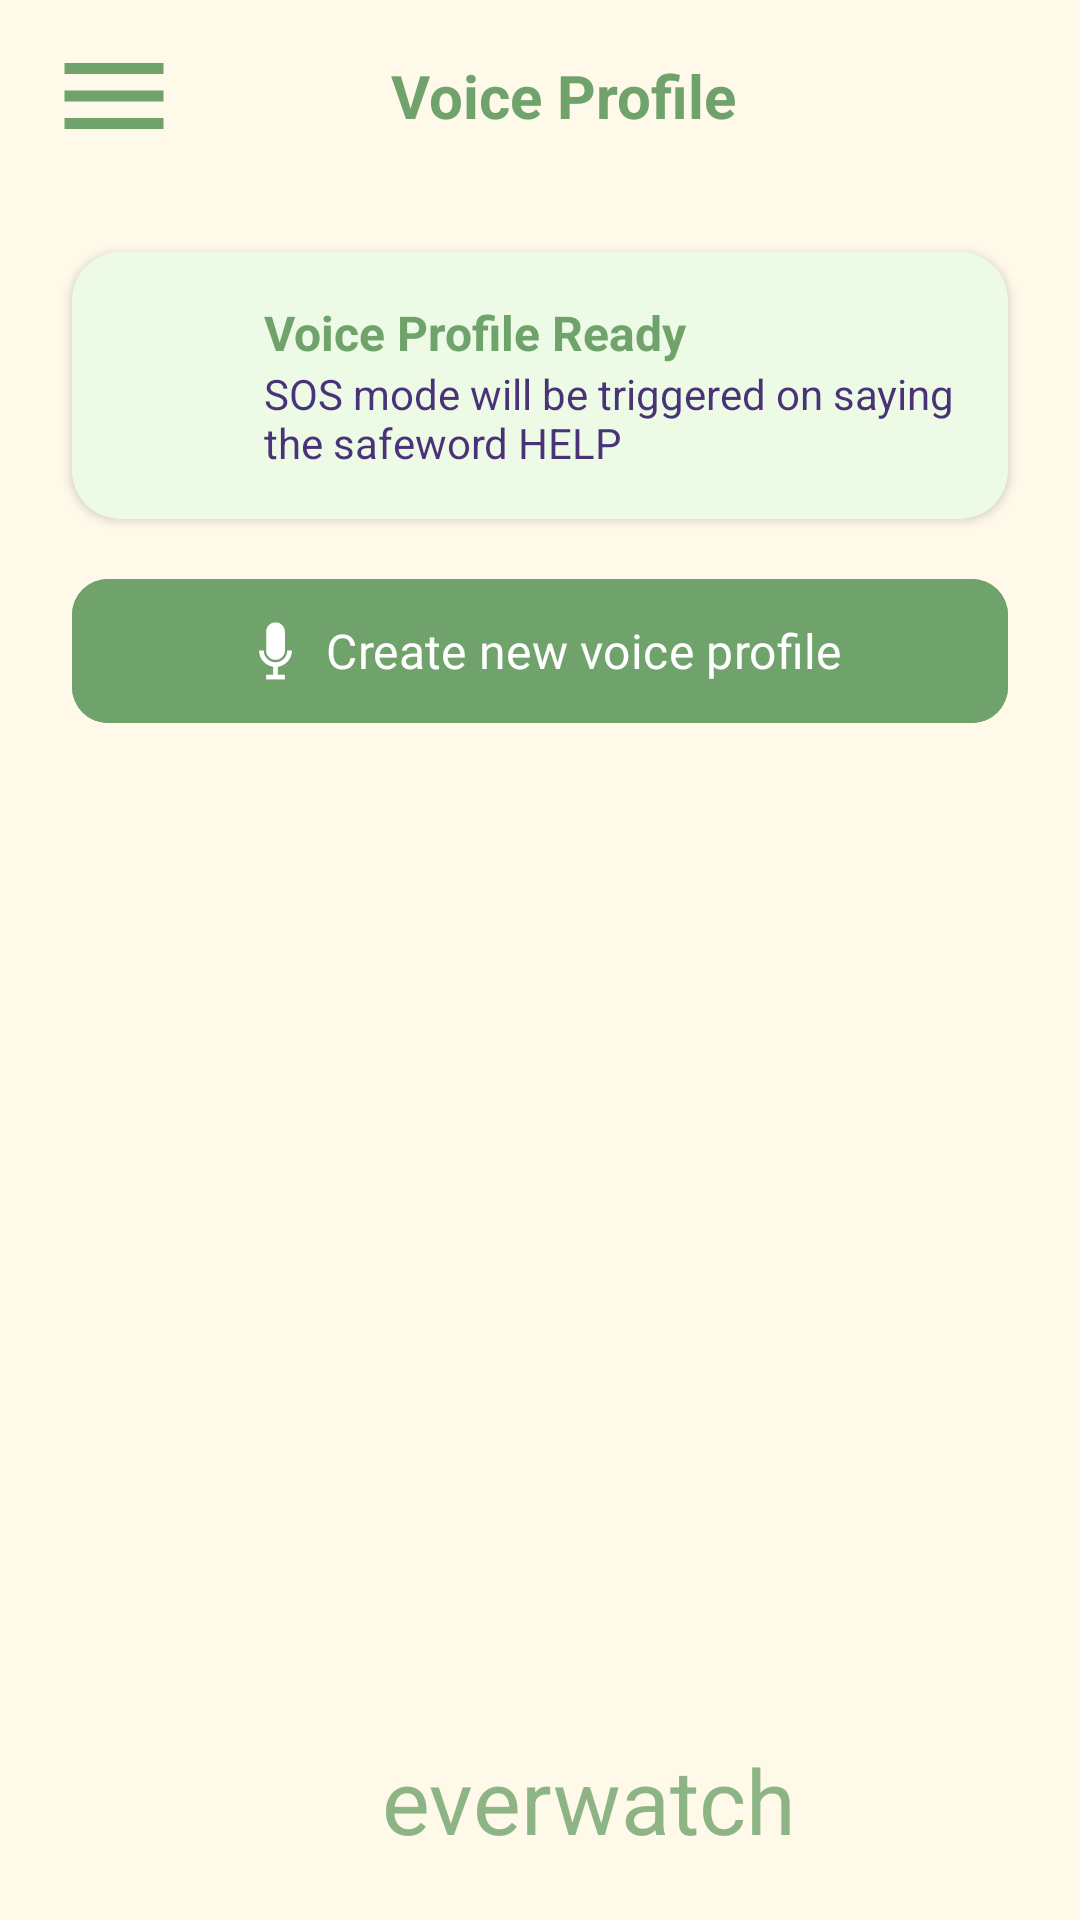

Named icons in this screenshot (1080px×1920px) and their centers, point (x, y):
Menu: point (114, 96)
